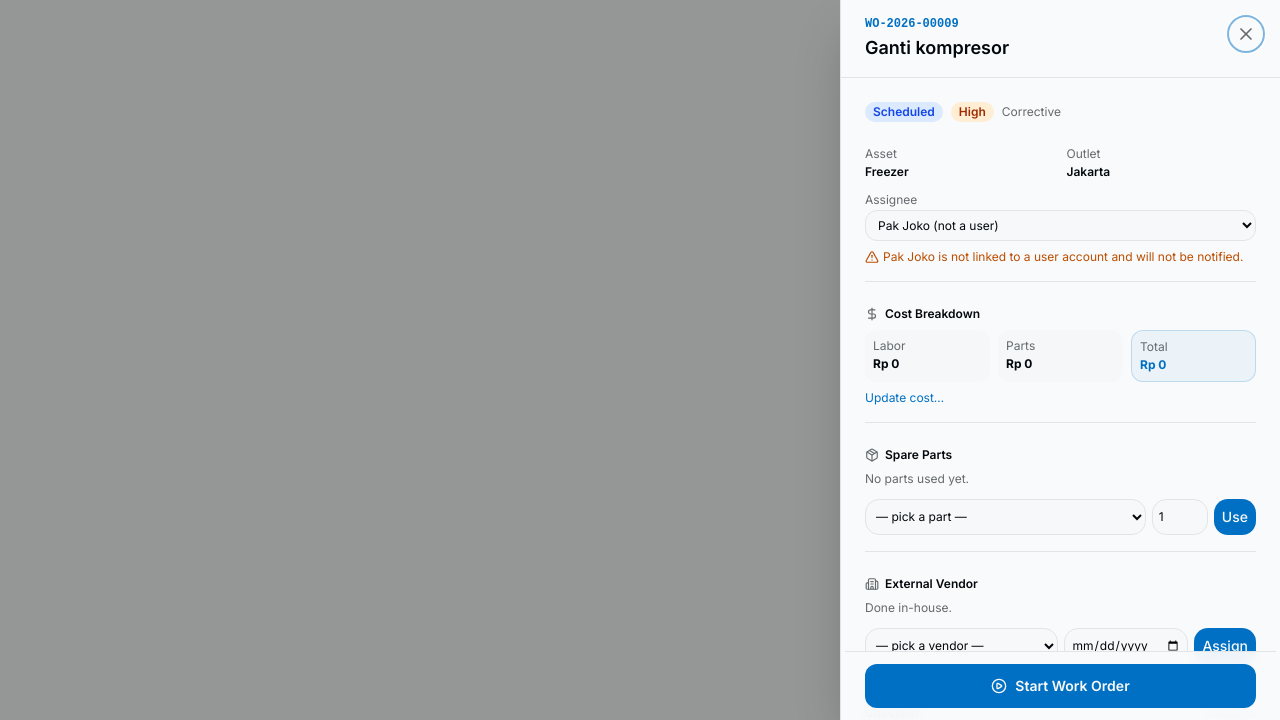
Test: WorkOrderDetailDrawer — assignee › reassigns to a user and warns about the unlinked name before
Expected: the message shows "Pak Joko is not linked", left=883, top=249, right=1243, bottom=264
Select "Budi — Technician" in the dropdown labelled "Assignee" at x=1060, y=225, box left=865, top=210, right=1256, bottom=241
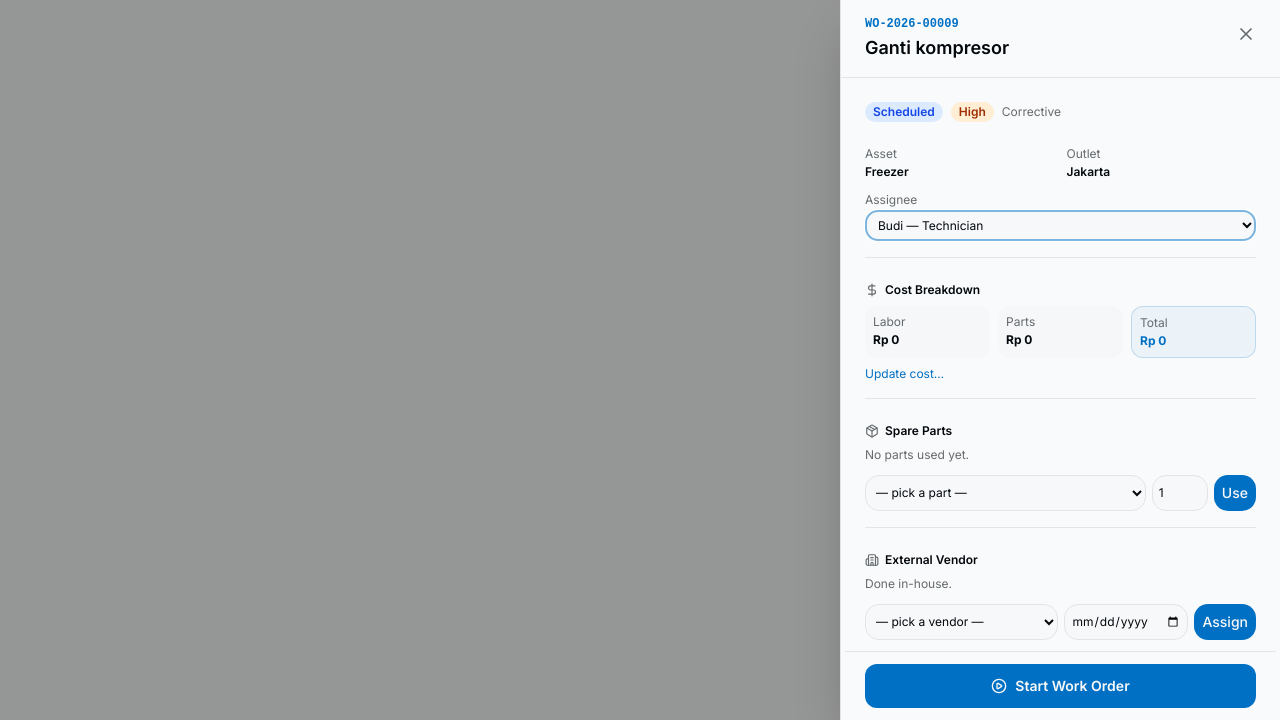
Now the message "Pak Joko is not linked to a user account and will not be notified." is gone
